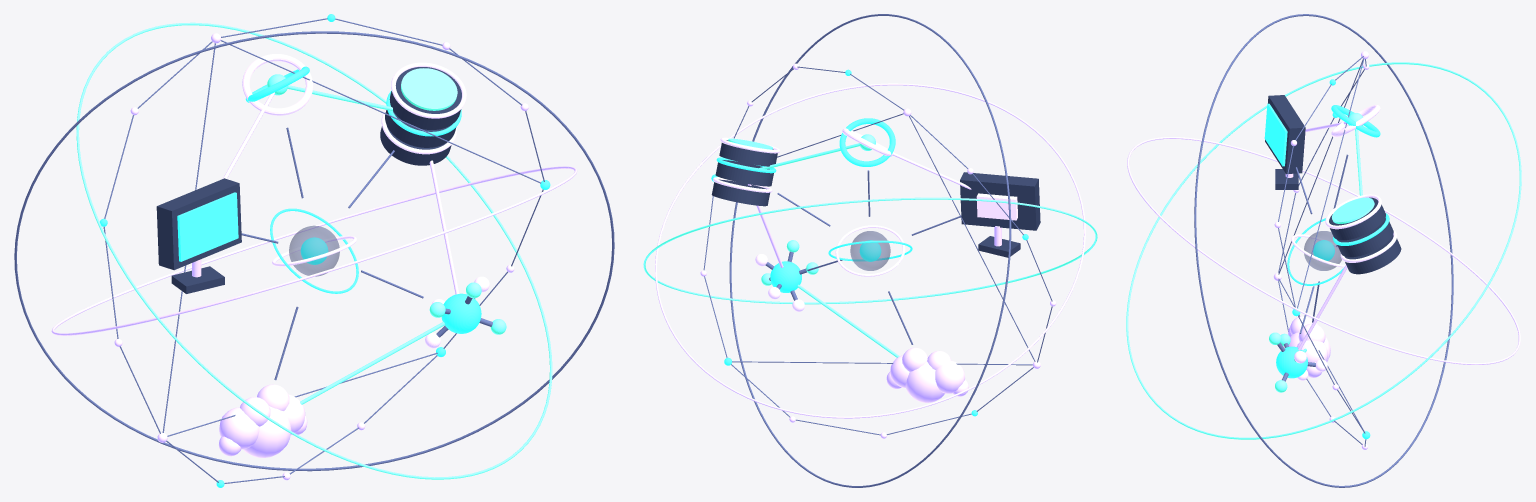
File: architecture.glb
3 renders of one model, left to right at view 1: azimuth 30°, elevation 25°; view 2: azimuth 150°, elevation 25°; view 3: azimuth 270°, elevation 25°, orthographic. The views are drawn at different scales.
Parts seen in each view (by area): view 1: orbital_band_2, cloud_bubbles, orbital_band_1, orbital_band_0, frontend_monitor_body, frontend_monitor_screen, data_top_inlay, architecture_core_glass, data_volume_2, api_ring_response, ai_core, data_volume_0 (+6 smaller); view 2: cloud_bubbles, frontend_monitor_body, orbital_band_0, orbital_band_2, orbital_band_1, architecture_core_glass, data_volume_0, data_volume_1, frontend_monitor_rear, api_ring_request, data_volume_2, ai_core (+2 smaller); view 3: orbital_band_1, orbital_band_2, orbital_band_0, frontend_monitor_body, cloud_bubbles, architecture_core_glass, data_volume_1, data_volume_0, data_volume_2, frontend_monitor_screen, data_top_inlay, ai_core (+3 smaller).
Part boxes in pixels (x1,y1,x2,y2): orbital_band_2: (14,31,614,471); cloud_bubbles: (219,384,307,457); orbital_band_1: (76,22,552,479); orbital_band_0: (51,166,577,335); frontend_monitor_body: (156,178,241,270); frontend_monitor_screen: (177,192,238,261); data_top_inlay: (401,68,457,110); architecture_core_glass: (289,225,339,276); data_volume_2: (389,67,461,129); api_ring_response: (242,54,313,115); ai_core: (441,293,481,333); data_volume_0: (380,126,451,165); cloud_bubbles: (886,347,968,402); frontend_monitor_body: (960,172,1040,230); orbital_band_0: (655,83,1085,418); orbital_band_2: (729,14,1011,487); orbital_band_1: (643,197,1097,304); architecture_core_glass: (850,231,890,270); data_volume_0: (711,179,769,206); data_volume_1: (715,160,773,186); frontend_monitor_rear: (976,193,1017,220); api_ring_request: (839,118,895,166); data_volume_2: (719,140,777,166); ai_core: (770,261,801,292); orbital_band_1: (1126,62,1521,439); orbital_band_2: (1194,14,1453,487); orbital_band_0: (1127,137,1520,364); frontend_monitor_body: (1265,95,1305,174); cloud_bubbles: (1288,316,1330,377); architecture_core_glass: (1304,231,1341,270); data_volume_1: (1337,218,1393,257); data_volume_0: (1345,235,1401,274); data_volume_2: (1329,197,1385,240); frontend_monitor_screen: (1264,103,1287,166); data_top_inlay: (1332,197,1374,223); ai_core: (1276,346,1307,378).
Bounding box in the file's own units: 5.16 × 5.39 × 4.7.
